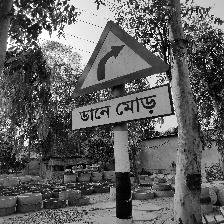Right-turn: (70, 19, 175, 134)
